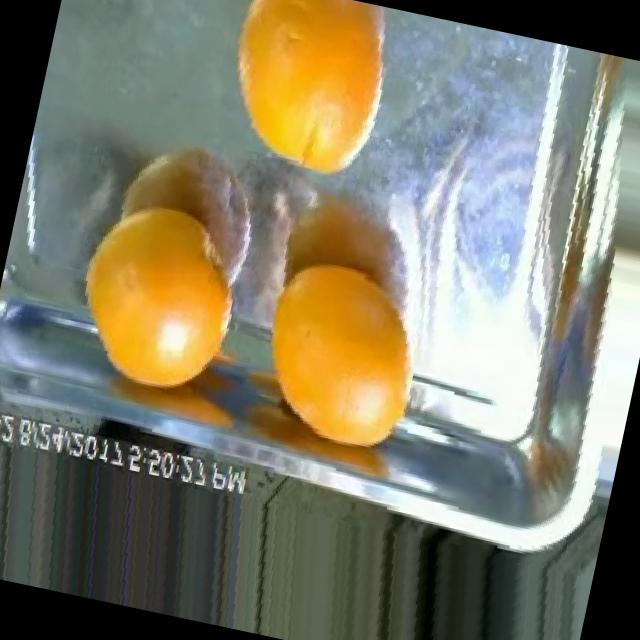Fruit: (190, 0, 414, 202)
